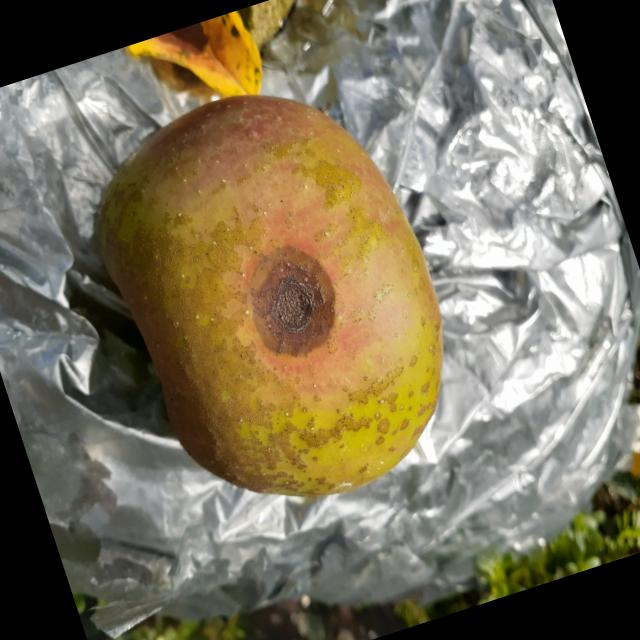rotten: (65, 48, 491, 546)
